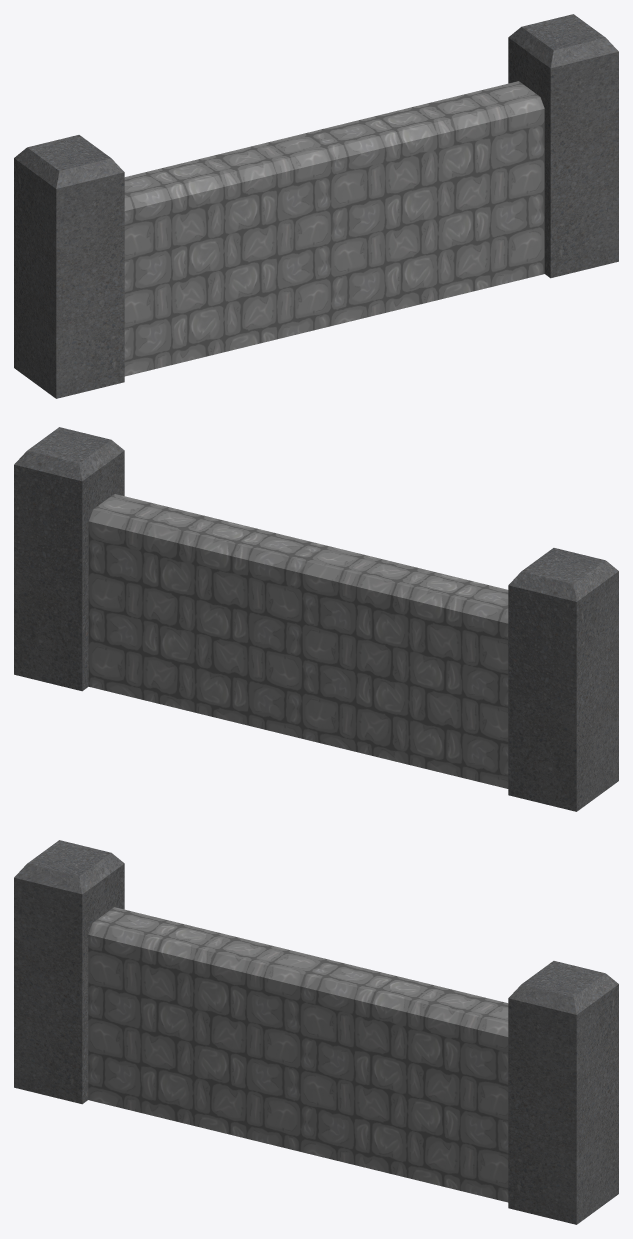
File: brickWall.FBX
3 renders of one model, top to bottom at view 1: azimuth 30°, elevation 25°; view 2: azimuth 150°, elevation 25°; view 3: azimuth 330°, elevation 25°, orthographic.
Parts seen in each view (by area): view 1: wall; view 2: wall; view 3: wall.
Boxes of the visible parts, left/top/right/bottom form: wall: left=14, top=14, right=618, bottom=398; wall: left=14, top=427, right=618, bottom=811; wall: left=14, top=840, right=618, bottom=1224.
Size of the model in its own units: 147 by 19.1 by 55.38.
Materials: 1 (1 with a texture image).
